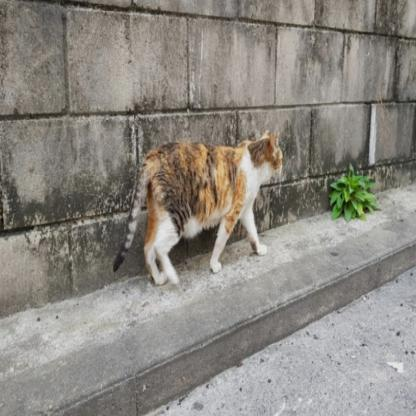cat: (112, 116, 302, 294)
